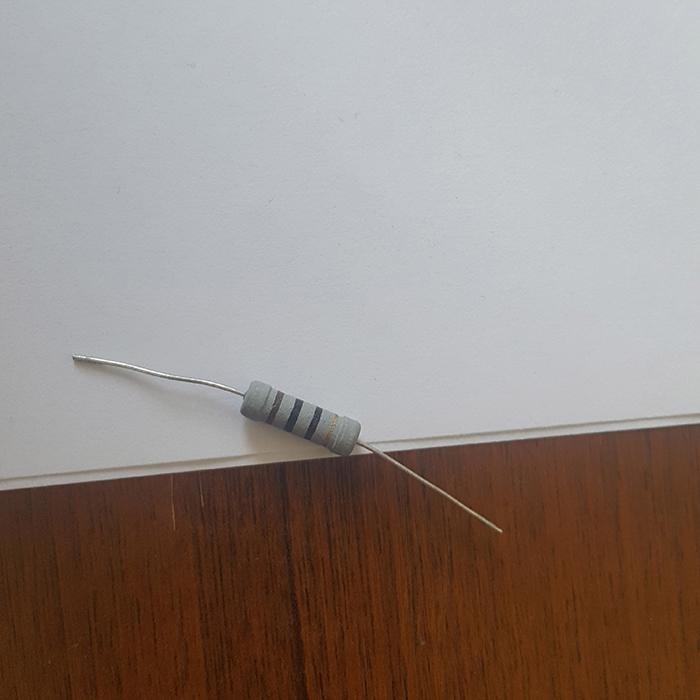resistor: (239, 379, 363, 456)
